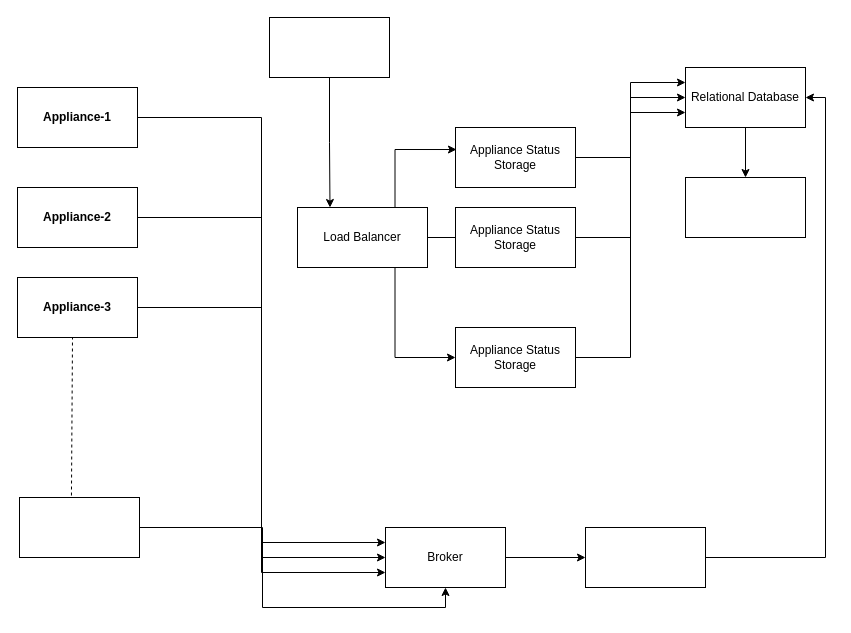
Image size: 851x633. Some labels were removed from this diagram. Here are the shapes that lost their labels. From the top down, the centre of each, then its label:
the point at 329,47: User Request to view Appliance Details
the point at 745,207: Relational Database - Replica
the point at 79,527: Appliance-N
the point at 645,557: Subscriber
